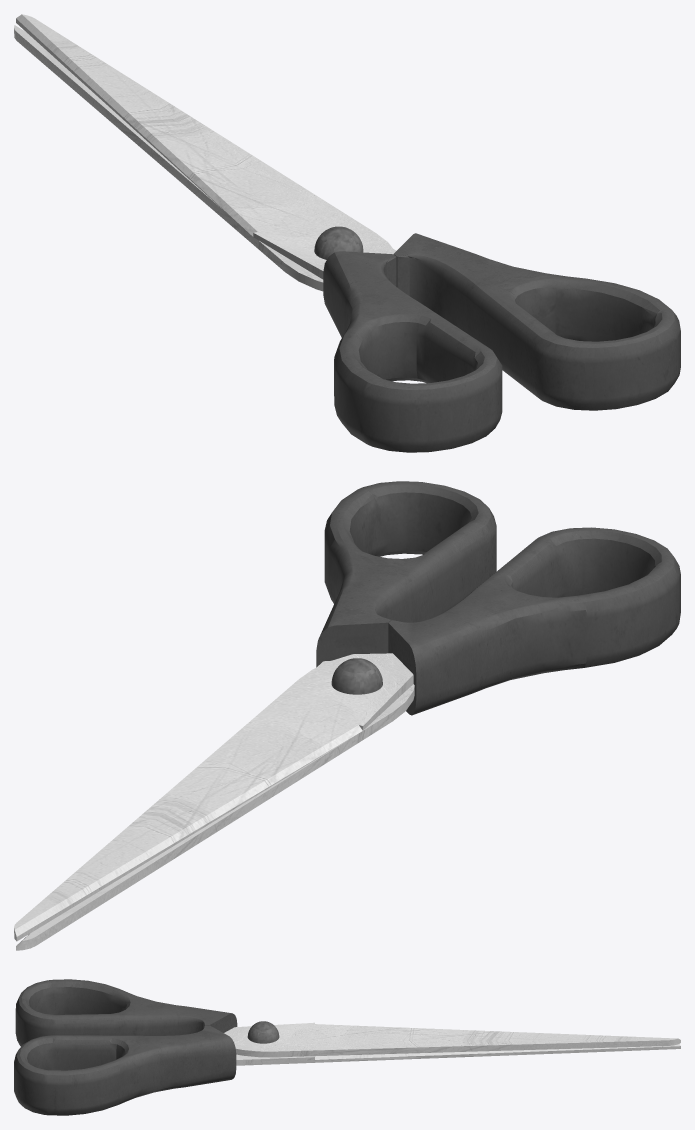
Rendered from chopper3.fbx.
The picture shows the model from 3 angles, top to bottom: view 1: azimuth 30°, elevation 25°; view 2: azimuth 150°, elevation 25°; view 3: azimuth 270°, elevation 25°; orthographic projection. The views are drawn at different scales.
Parts seen in each view (by area): view 1: handle2, handle1; view 2: handle2, handle1; view 3: handle2, handle1.
Part boxes in pixels (bbox=[...]): handle2: bbox=[16, 14, 502, 452]; handle1: bbox=[14, 25, 680, 410]; handle2: bbox=[14, 527, 680, 941]; handle1: bbox=[16, 481, 496, 950]; handle2: bbox=[15, 979, 680, 1057]; handle1: bbox=[14, 1021, 680, 1115].
Size of the model in its own units: 2.93 by 0.5906 by 8.3.
Materials: 1 (1 with a texture image).
